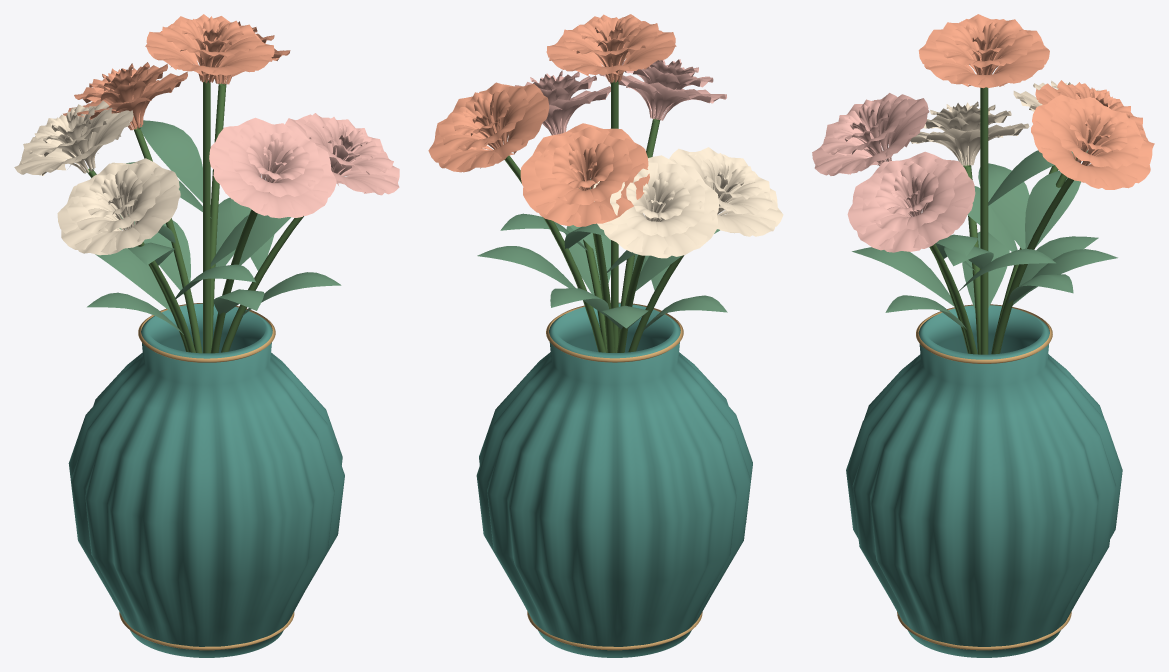
The model's file is FloralTableVase.glb.
The picture shows the model from 3 angles, left to right: view 1: azimuth 30°, elevation 25°; view 2: azimuth 150°, elevation 25°; view 3: azimuth 270°, elevation 25°; orthographic projection.
Visible parts, largest first — view 1: Fluted ceramic, Garden rose petal.056, Garden rose petal.028, Lanceolate leaf, Garden rose petal, Flower stem, Gilt bead; view 2: Fluted ceramic, Garden rose petal, Garden rose petal.028, Lanceolate leaf, Flower stem, Garden rose petal.056, Gilt bead; view 3: Fluted ceramic, Garden rose petal, Garden rose petal.056, Lanceolate leaf, Flower stem, Garden rose petal.028, Gilt bead.
Boxes of the visible parts, x1,y1,x2,y2 form: Fluted ceramic: [68, 303, 344, 657]; Garden rose petal.056: [209, 113, 399, 218]; Garden rose petal.028: [14, 100, 180, 255]; Lanceolate leaf: [87, 120, 341, 334]; Garden rose petal: [63, 14, 290, 130]; Flower stem: [86, 80, 303, 353]; Gilt bead: [119, 303, 294, 650]; Fluted ceramic: [476, 303, 752, 657]; Garden rose petal: [428, 14, 676, 226]; Garden rose petal.028: [593, 147, 783, 258]; Lanceolate leaf: [477, 179, 727, 330]; Flower stem: [504, 80, 684, 352]; Garden rose petal.056: [515, 59, 726, 135]; Gilt bead: [527, 302, 702, 650]; Fluted ceramic: [846, 305, 1122, 657]; Garden rose petal: [918, 14, 1154, 189]; Garden rose petal.056: [812, 93, 975, 252]; Lanceolate leaf: [852, 149, 1117, 329]; Flower stem: [929, 87, 1076, 354]; Garden rose petal.028: [910, 80, 1098, 165]; Gilt bead: [897, 304, 1071, 650].
Size of the model in its own units: 0.1476 by 0.2825 by 0.1462.
